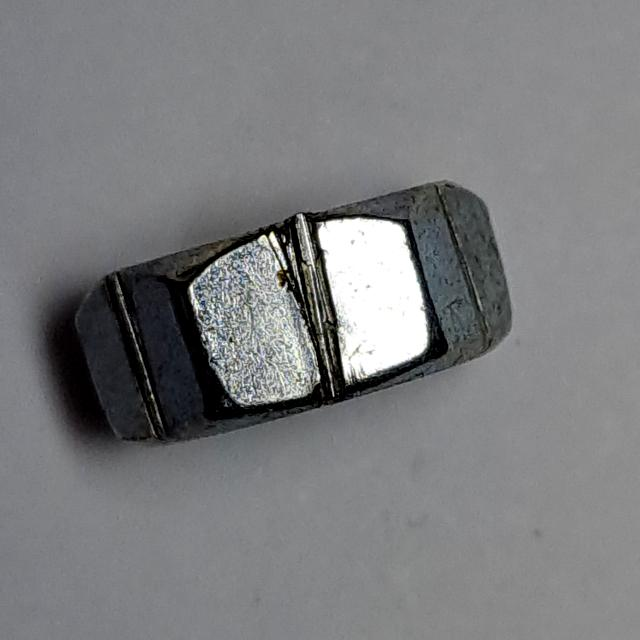Side_Scratches: (62, 171, 536, 460)
